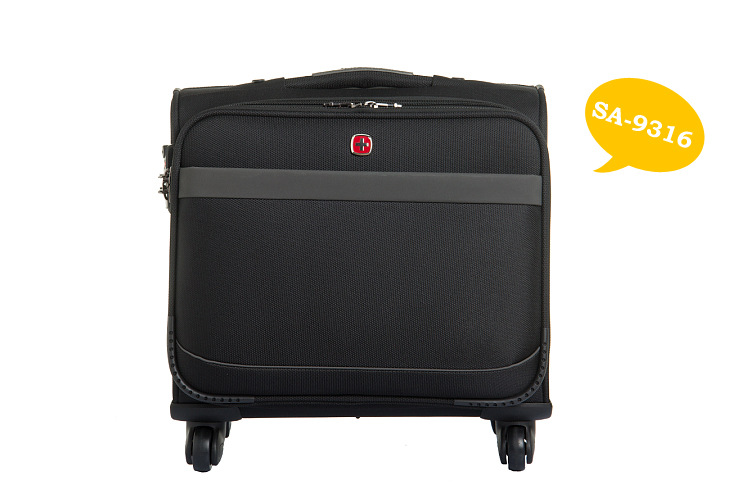luggage: (160, 65, 555, 474)
